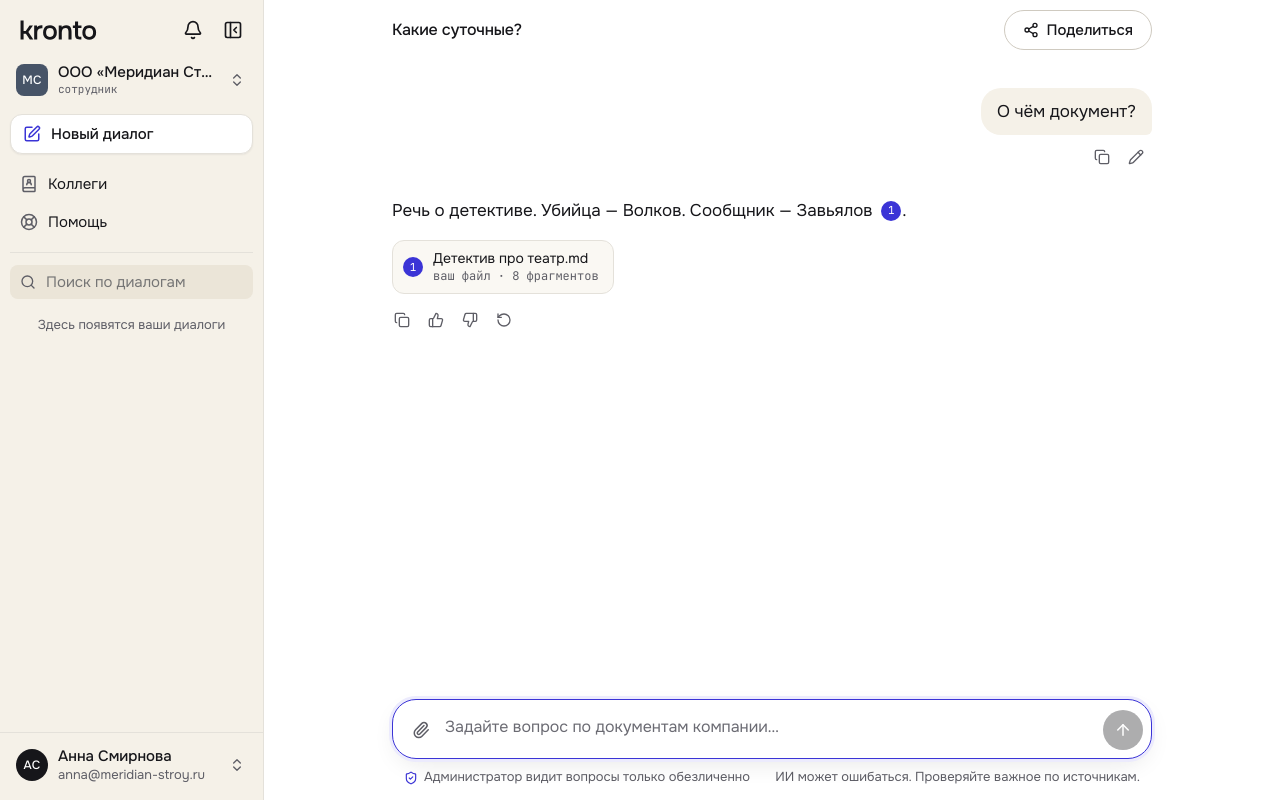
новый диалог › файл сотрудника — одна карточка; маркеры подряд и повторы в абзаце сливаются
Check: the text "Речь о детективе. Убийца — Волков. Сообщник — Завьялов 1 ." is shown, box [392,200,906,221]
# Маркер открывает тот фрагмент, на который ссылалась последняя фраза.
Click the button named "Источник 1: Детектив про театр.md" at (891, 211), box [881,201,901,221]
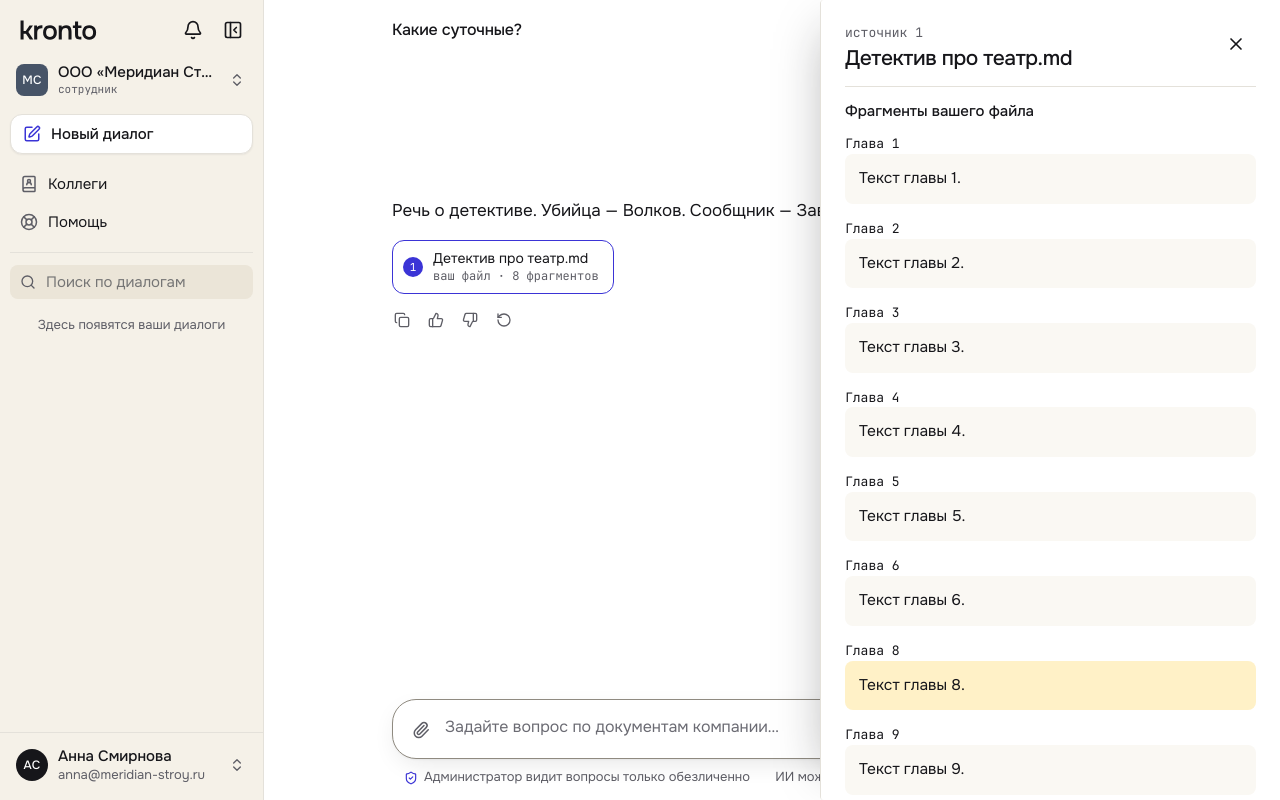
Check: the text "Фрагменты вашего файла" is shown, box [845,86,1256,123]
Check: the text "Глава 8" is shown, box [845,642,900,659]
